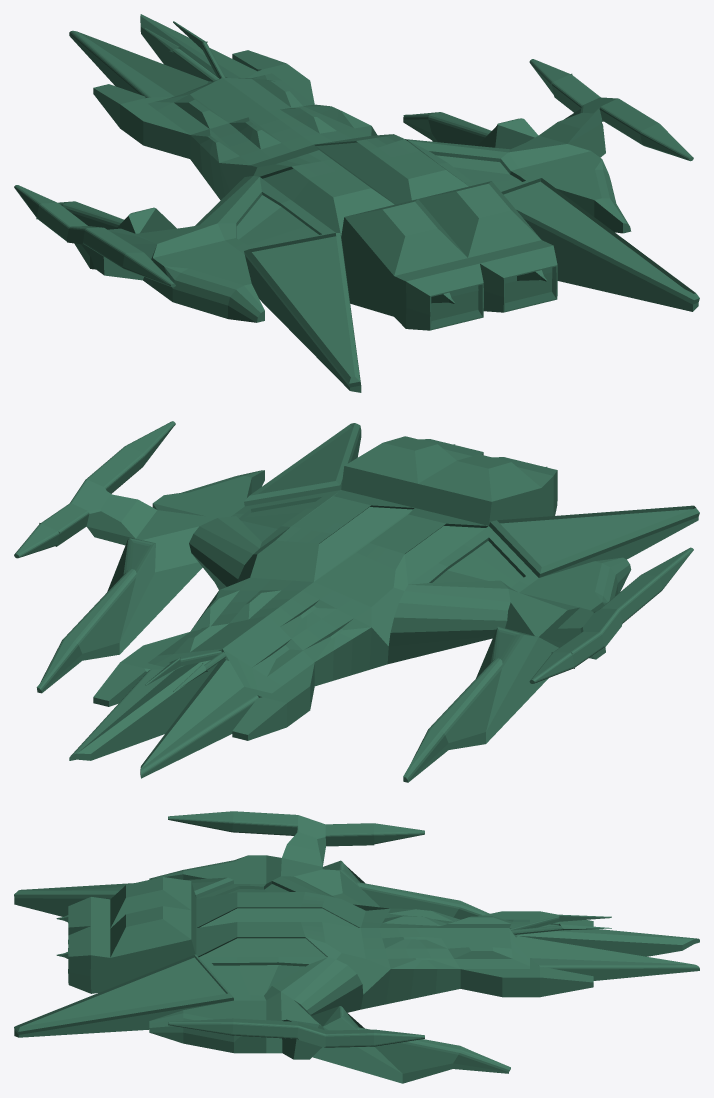
Rendered from MilitaryMediumShip.fbx.
3 views of the same model, one above another, from view 1: azimuth 30°, elevation 25°; view 2: azimuth 150°, elevation 25°; view 3: azimuth 270°, elevation 25° (orthographic). The views are drawn at different scales.
Visible parts, largest first — view 1: Eship2; view 2: Eship2; view 3: Eship2.
Part boxes in pixels (x1,y1,x2,y2): Eship2: (14,14,699,392); Eship2: (14,421,699,782); Eship2: (14,811,699,1083).
Size of the model in its own units: 732 by 171 by 991.
